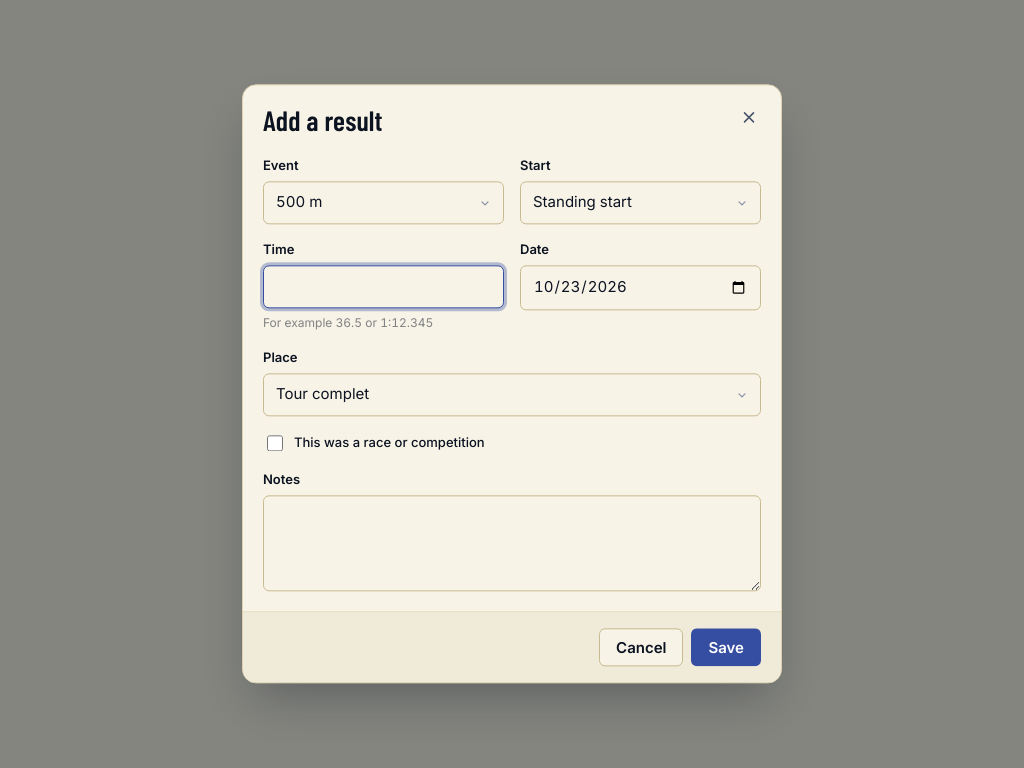
Test: ManualResultDialog › explains a bad time instead of sending it
The width and height of the screenshot is (1024, 768).
Type "fast" into the field labelled "Time" at (384, 287), box [263, 266, 504, 308]
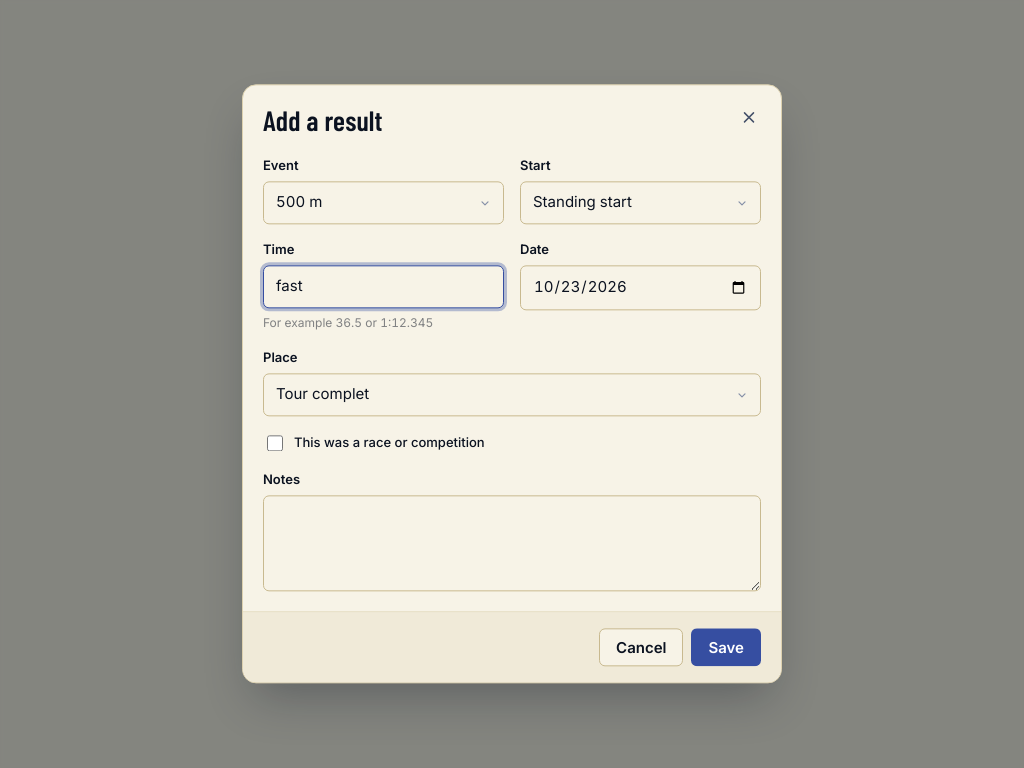
Click the button "Save" at (726, 648), box [692, 629, 761, 667]
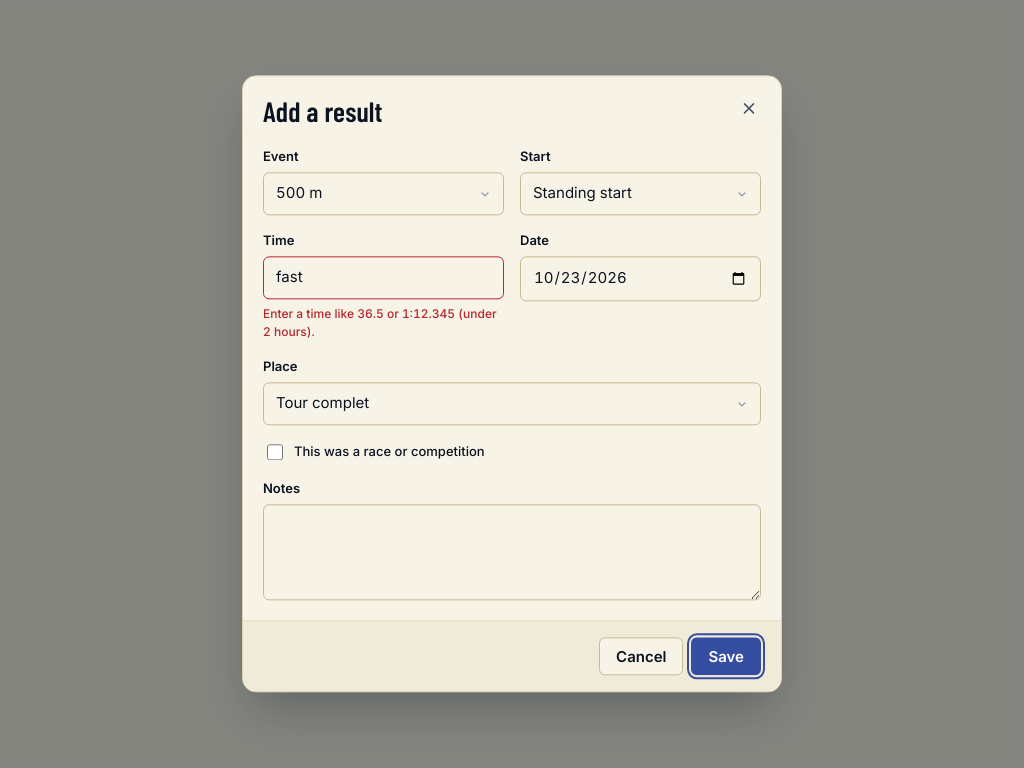
Expected: the text "Enter a time like 36.5 or 1:12.345 (under 2 hours)." is shown, [263, 305, 504, 341]
